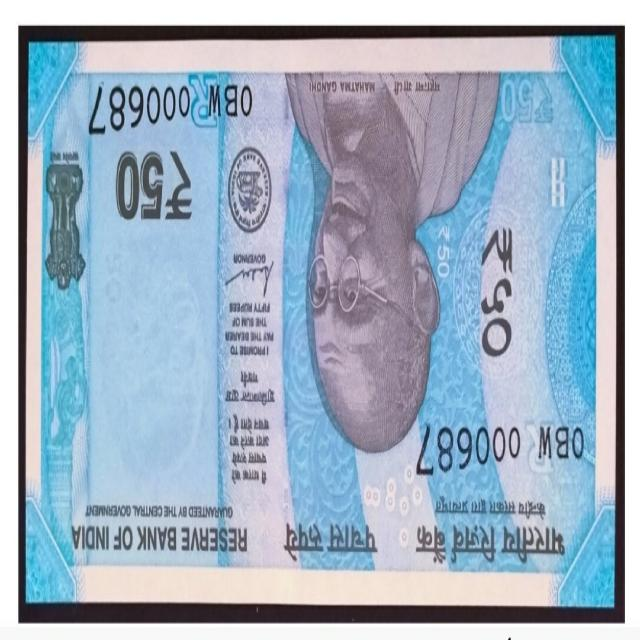50IndianRupees: (28, 41, 613, 603)
